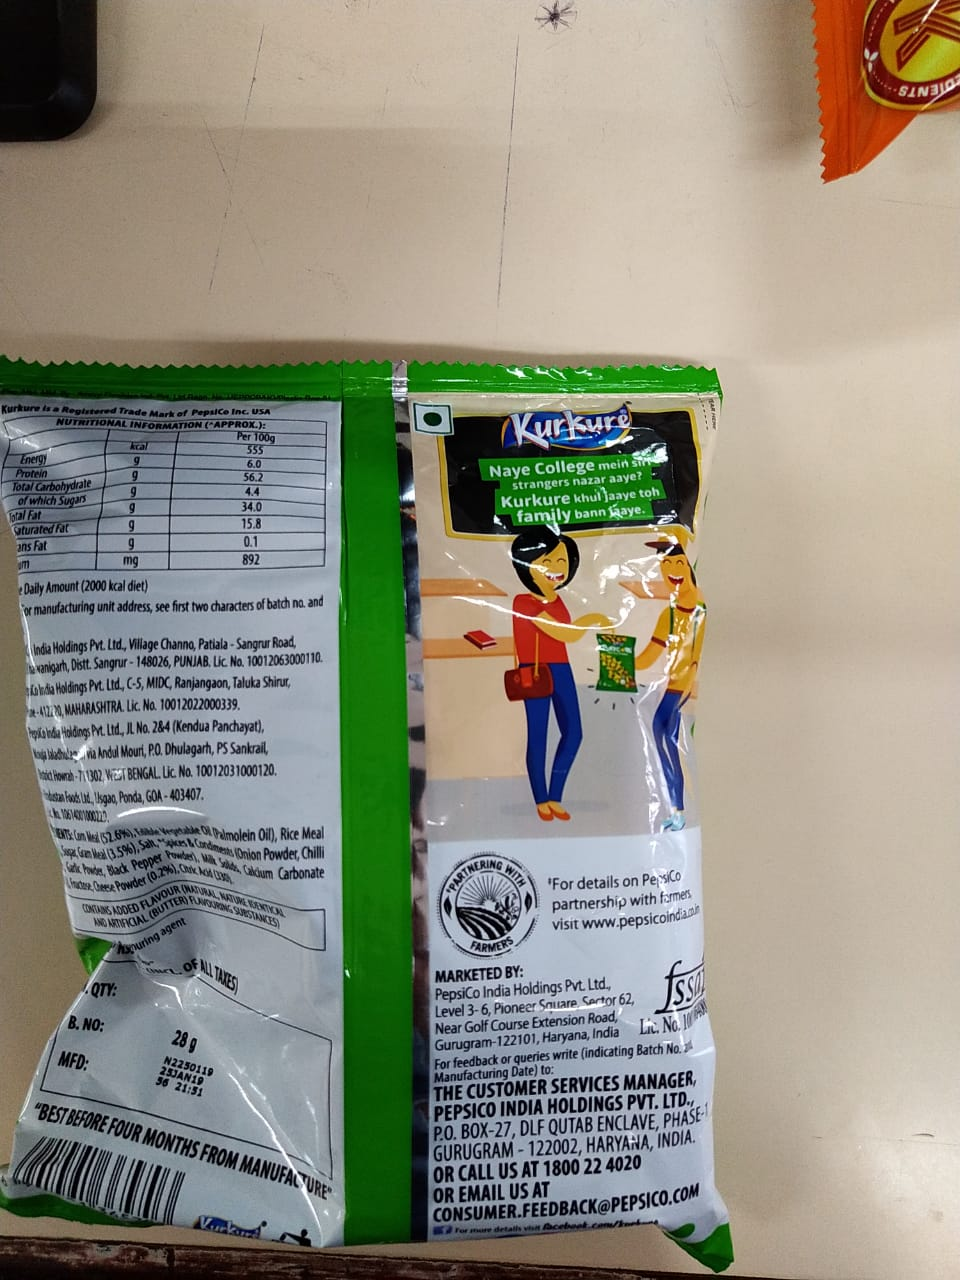kurkure: (484, 385, 651, 473)
plastic: (19, 360, 731, 1253)
wrapper: (25, 395, 721, 1255)
